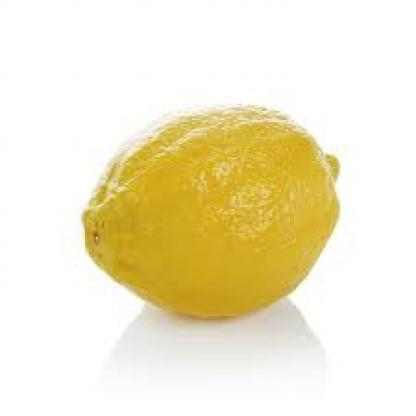lemon: (80, 102, 341, 318)
